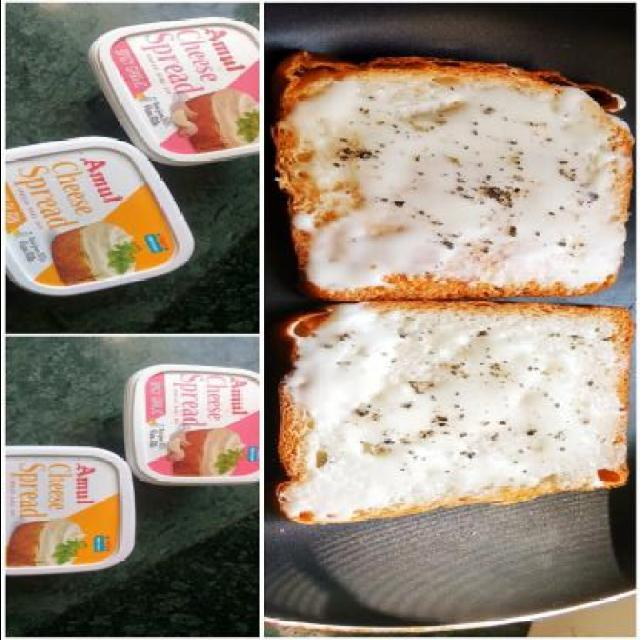Spread: (301, 312, 610, 512), (309, 88, 597, 284)
